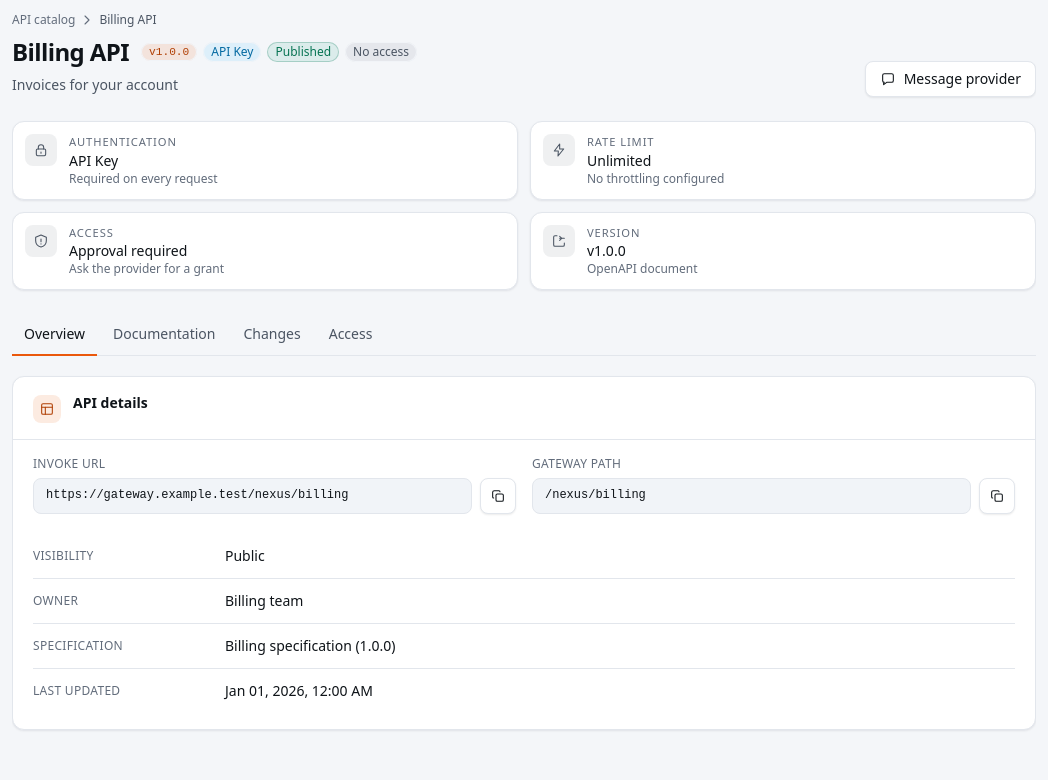
Test case: catalog browsing › reports a failed document request
expect the heading "Billing API" is shown: met, box [12,36,129,68]
Press the mouse on the tab "Documentation" at (164, 335), box [101,314,228,356]
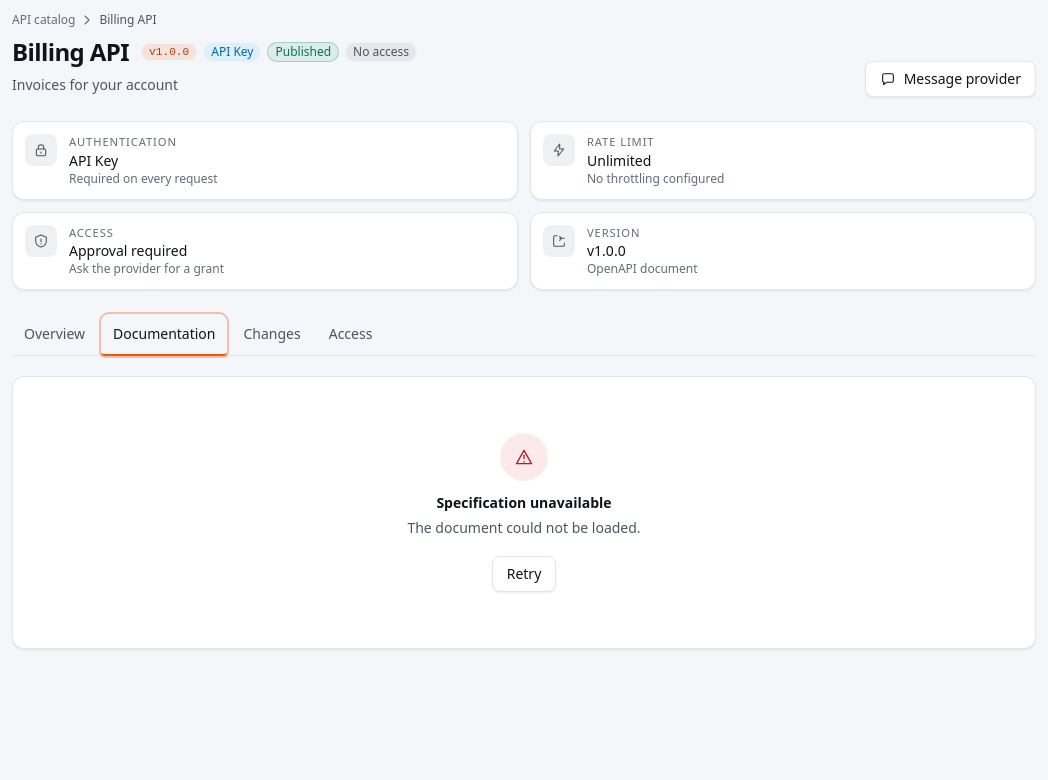
expect the text "Specification unavailable" is shown: met, box [436,493,612,512]
